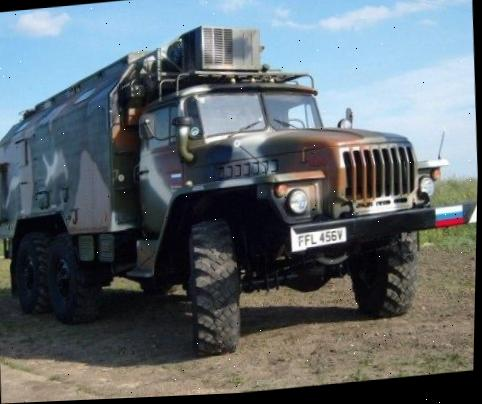truck: (0, 0, 476, 340)
